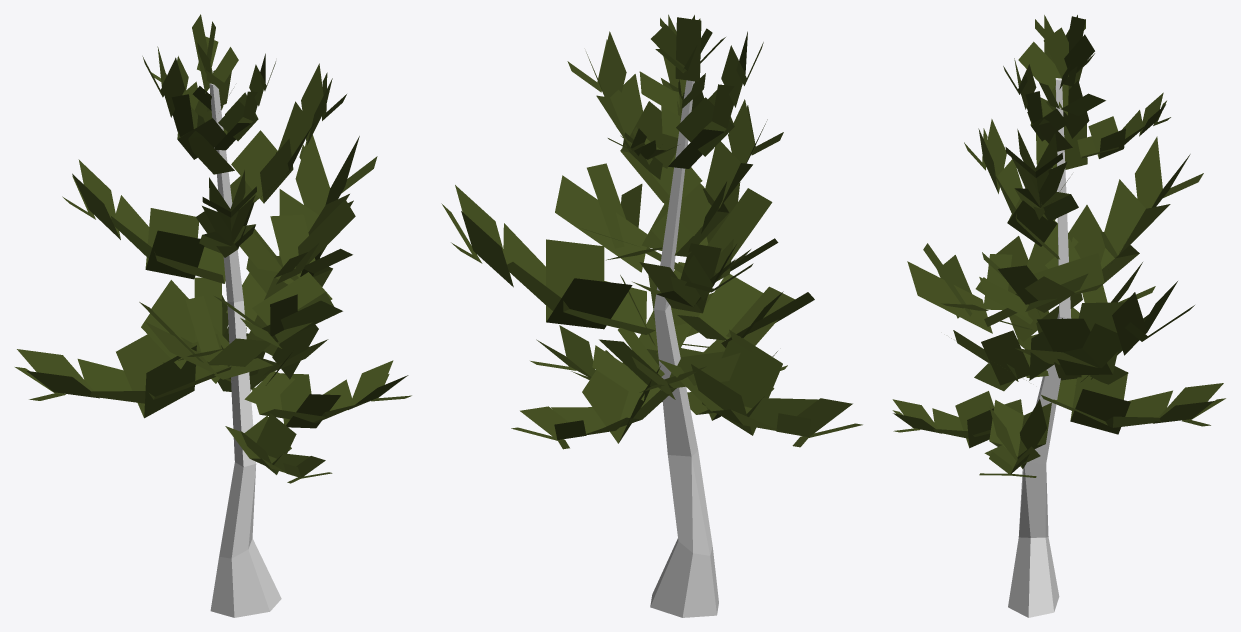
The model's file is SM_Tree_Pine_Sapling_A.fbx.
3 renders of one model, left to right at view 1: azimuth 30°, elevation 25°; view 2: azimuth 150°, elevation 25°; view 3: azimuth 270°, elevation 25°, orthographic. The views are drawn at different scales.
Parts seen in each view (by area): view 1: tree-pine-sapling-a; view 2: tree-pine-sapling-a; view 3: tree-pine-sapling-a.
Part boxes in pixels (box(x1,y1,x2,y2)): tree-pine-sapling-a: box(15, 14, 411, 617); tree-pine-sapling-a: box(441, 14, 862, 617); tree-pine-sapling-a: box(892, 15, 1225, 617).
Size of the model in its own units: 1.03 by 1.52 by 0.8041.
